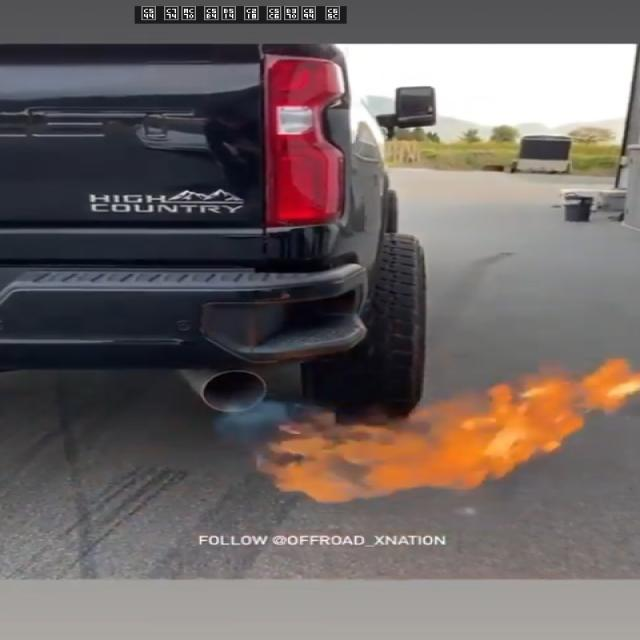fire: (215, 357, 640, 503)
